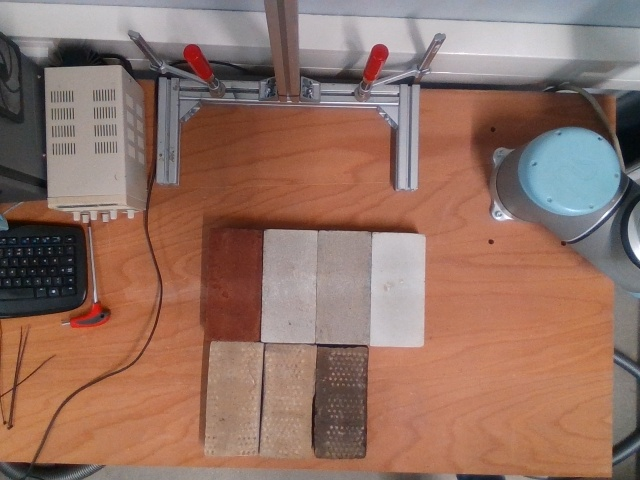brick: (202, 227, 263, 342), (257, 343, 315, 459), (259, 230, 317, 344), (315, 231, 372, 346), (203, 341, 260, 456), (371, 233, 426, 348), (314, 347, 368, 460)
